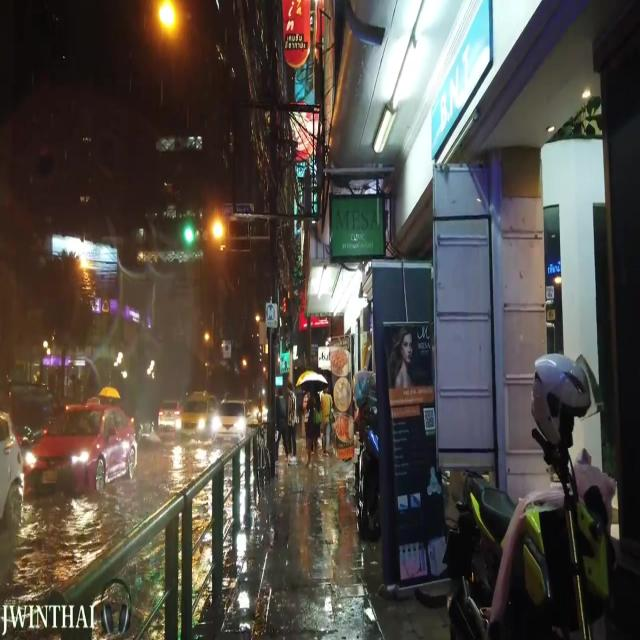Car: (27, 405, 134, 499), (173, 391, 214, 437)
